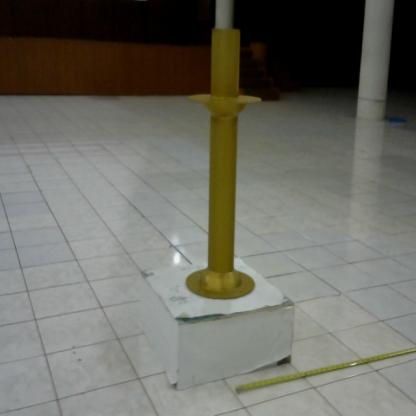pole: (181, 18, 267, 309)
